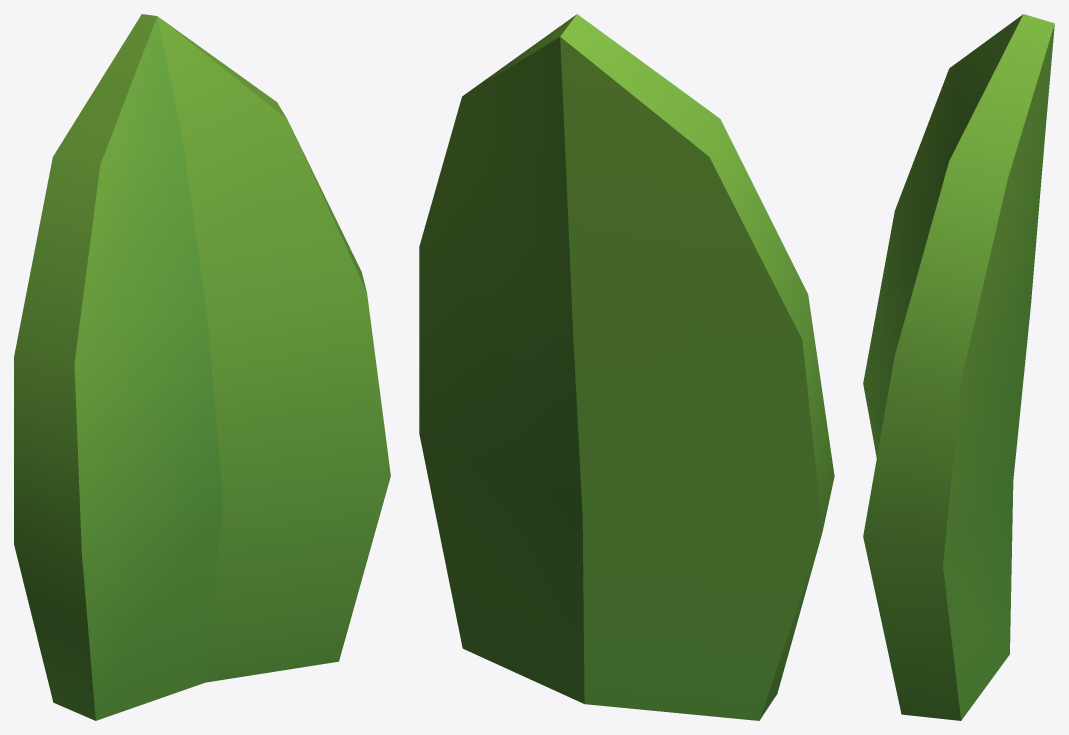
The model's file is Grass_1_A.glb.
The picture shows the model from 3 angles, left to right: view 1: azimuth 30°, elevation 25°; view 2: azimuth 150°, elevation 25°; view 3: azimuth 270°, elevation 25°; orthographic projection. The views are drawn at different scales.
Visible parts, largest first — view 1: Grass_1_A_Color1; view 2: Grass_1_A_Color1; view 3: Grass_1_A_Color1.
Boxes of the visible parts, bbox=[...] form: Grass_1_A_Color1: bbox=[14, 14, 390, 720]; Grass_1_A_Color1: bbox=[419, 14, 834, 720]; Grass_1_A_Color1: bbox=[863, 14, 1054, 720].
Bounding box in the file's own units: 0.3393 × 0.5593 × 0.1518.
Materials: 1 (1 with a texture image).
